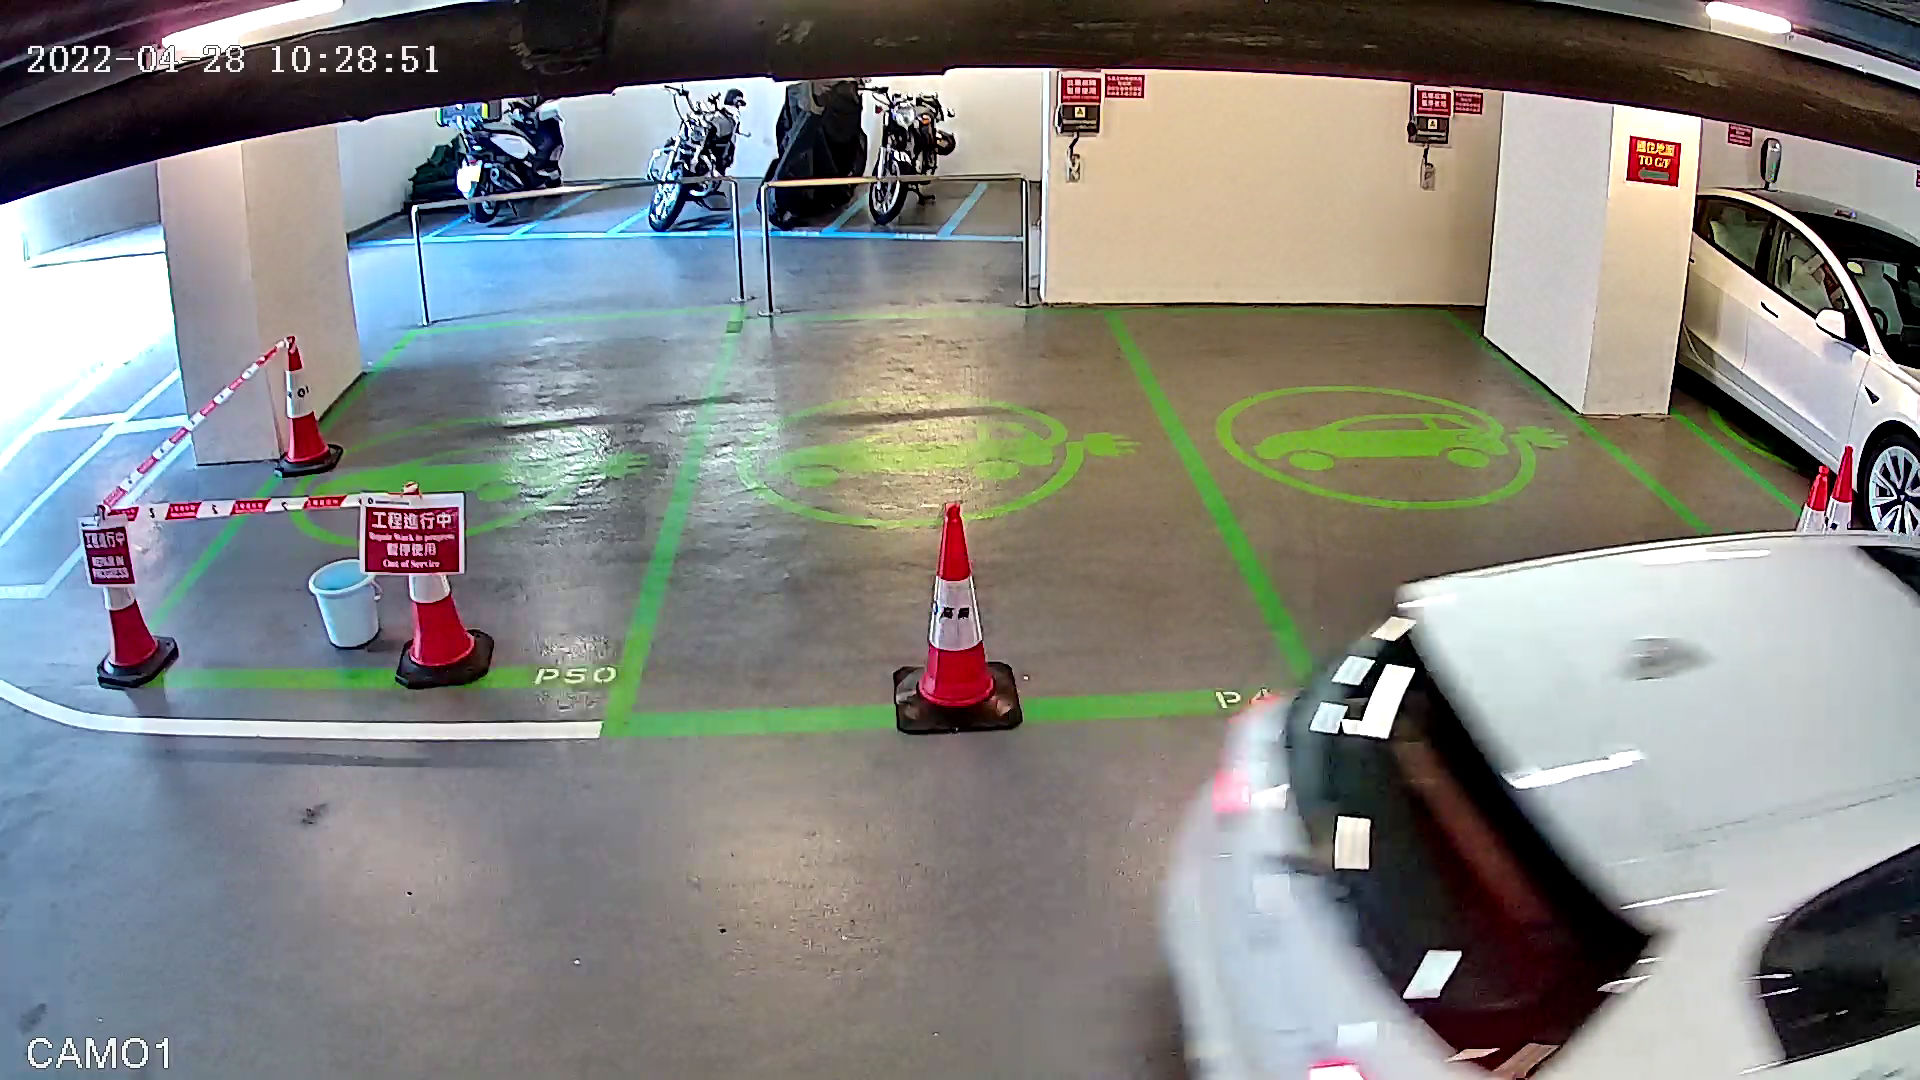space: (570, 281, 1358, 773), (1102, 280, 1822, 756)
